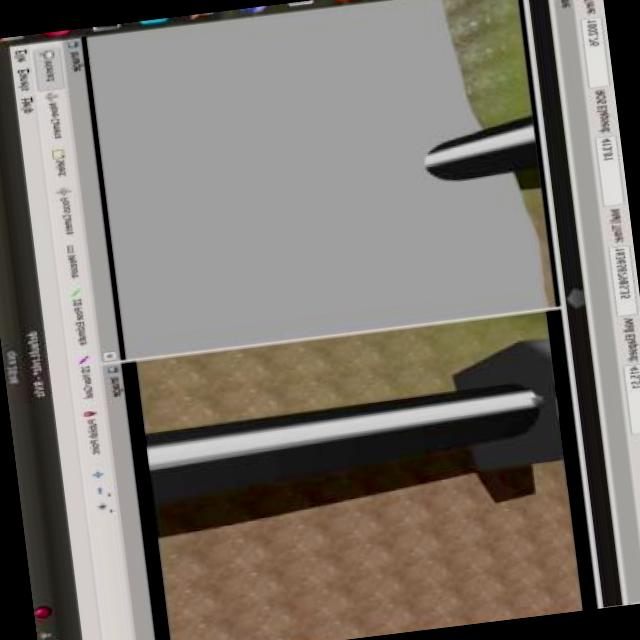gas: (143, 377, 530, 489), (426, 116, 544, 182)
